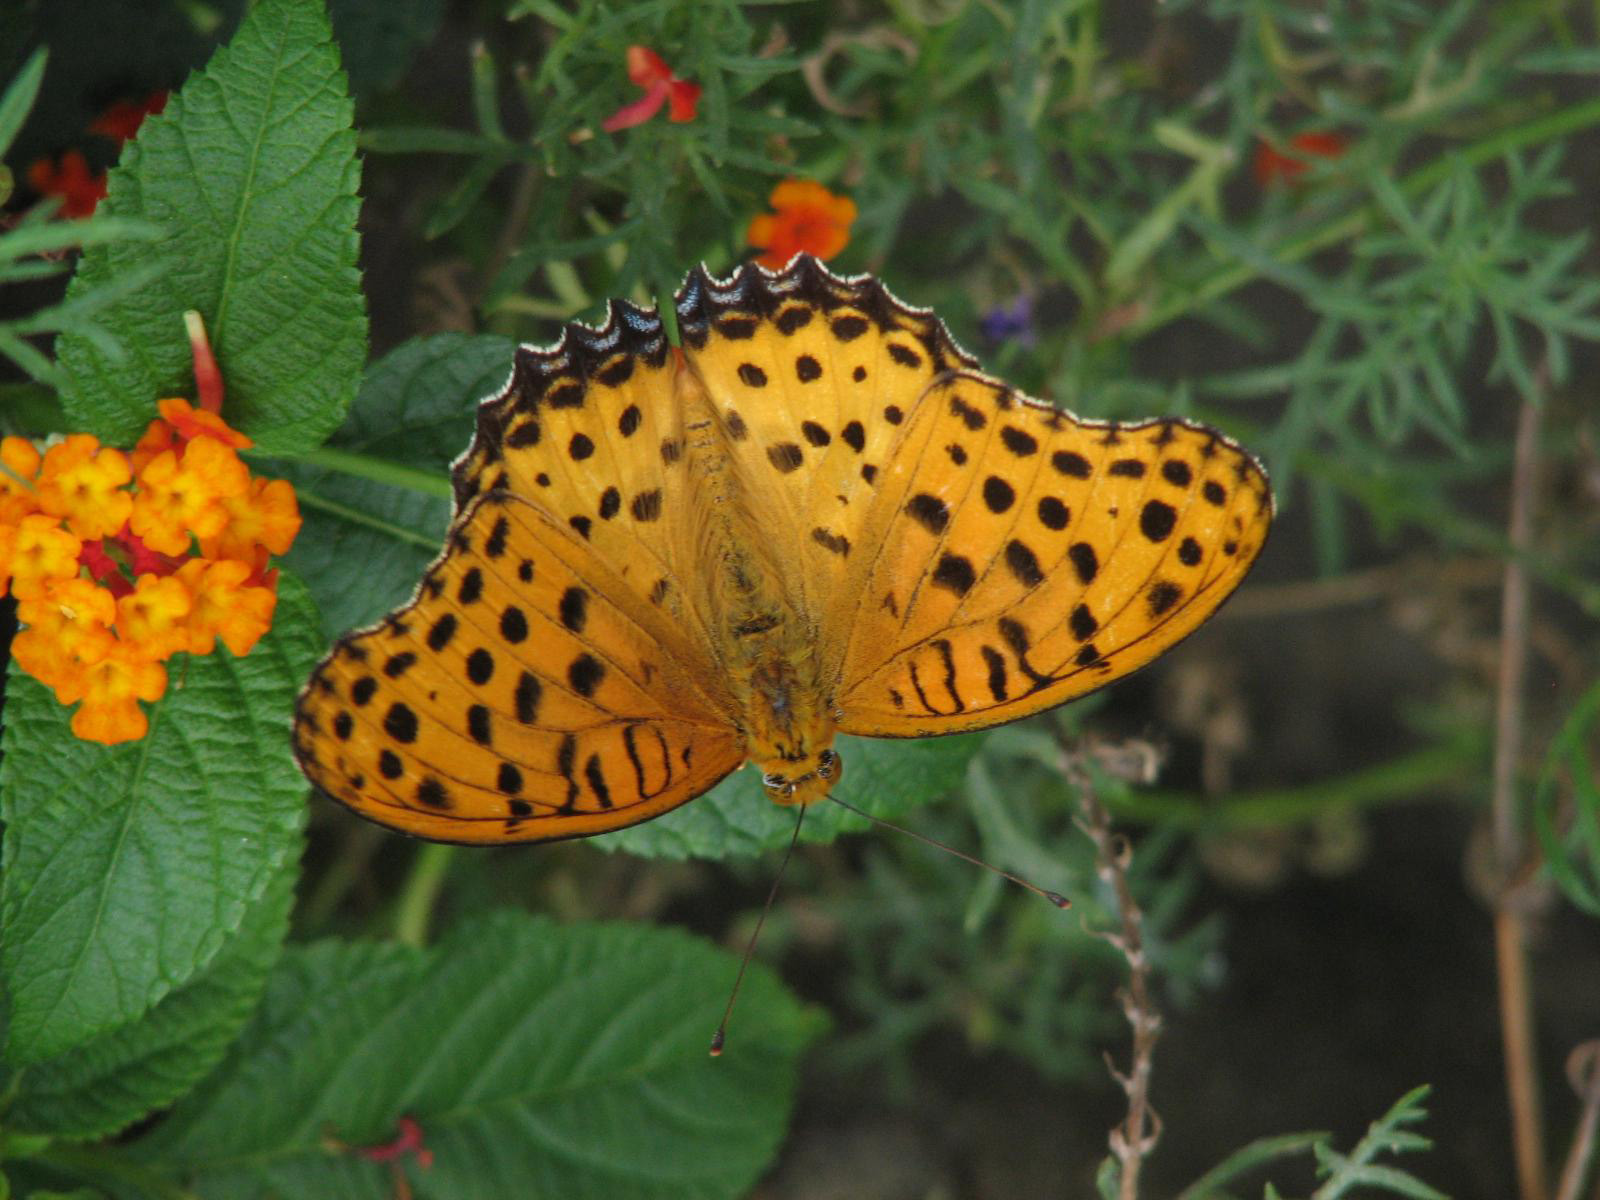Argyreus hyperbius: (277, 245, 1283, 1063)
butterfly: (278, 246, 1284, 1065)
